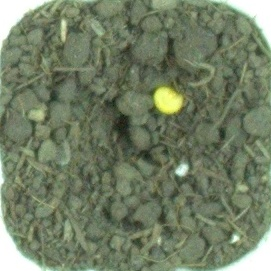pepper seed: (60, 26, 246, 142)
